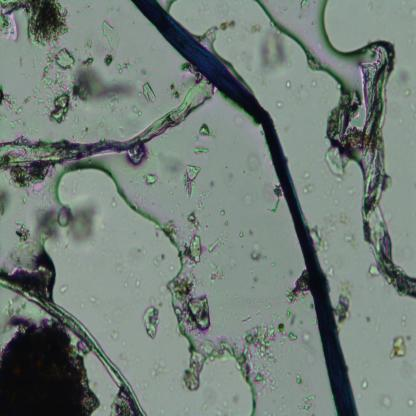Air bubble: (258, 1, 370, 96), (198, 25, 220, 48)
Background material: (0, 270, 144, 416), (0, 316, 98, 415), (163, 228, 217, 343), (0, 0, 72, 50), (70, 62, 138, 112), (32, 199, 96, 249), (236, 324, 278, 390), (40, 69, 74, 128), (255, 23, 288, 83), (323, 208, 356, 247), (280, 267, 309, 307), (98, 21, 124, 65), (0, 78, 22, 125), (332, 280, 354, 326), (97, 313, 128, 345), (182, 158, 204, 200), (46, 45, 76, 74), (114, 255, 141, 287), (277, 306, 298, 347), (393, 69, 416, 106), (324, 146, 346, 182), (142, 302, 161, 340), (126, 144, 151, 168), (242, 144, 261, 174), (268, 184, 284, 215), (388, 334, 406, 361), (70, 118, 92, 140), (309, 226, 325, 254), (207, 233, 230, 252), (140, 79, 158, 103), (183, 210, 202, 232), (0, 183, 12, 216), (16, 223, 30, 251), (145, 359, 166, 377), (298, 321, 313, 344), (298, 394, 316, 412), (208, 263, 224, 282), (196, 121, 212, 139), (250, 248, 267, 264), (368, 262, 380, 282), (168, 82, 180, 102), (293, 365, 303, 388), (219, 18, 235, 32), (149, 251, 161, 269), (380, 391, 392, 409), (231, 224, 244, 240), (146, 172, 159, 186), (241, 192, 253, 207), (302, 182, 316, 194), (194, 145, 209, 156), (360, 311, 373, 323), (406, 395, 416, 408), (360, 378, 370, 390), (246, 224, 255, 237), (283, 81, 293, 92), (218, 206, 228, 217), (86, 293, 98, 302), (275, 99, 285, 109), (60, 284, 68, 294), (221, 220, 229, 228), (114, 199, 118, 206)
Cellulose filter fibre: (0, 80, 213, 170), (354, 43, 416, 300)
Cotton: (131, 1, 359, 415)
